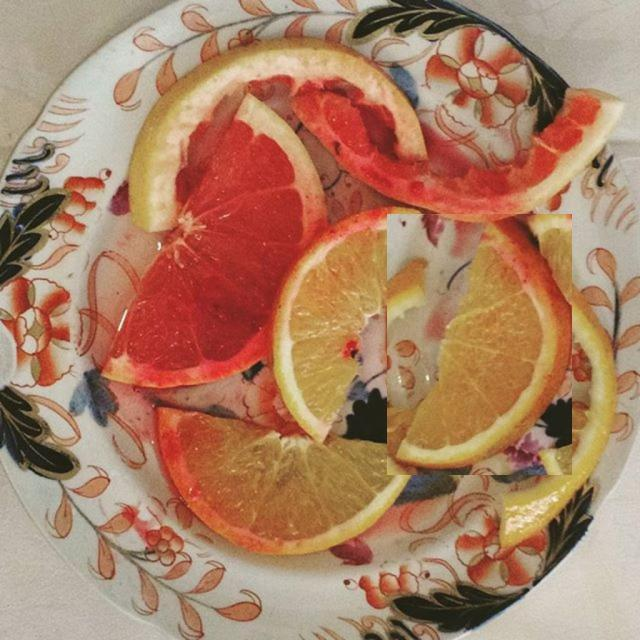Orange: (387, 214, 572, 475), (152, 404, 410, 558)
